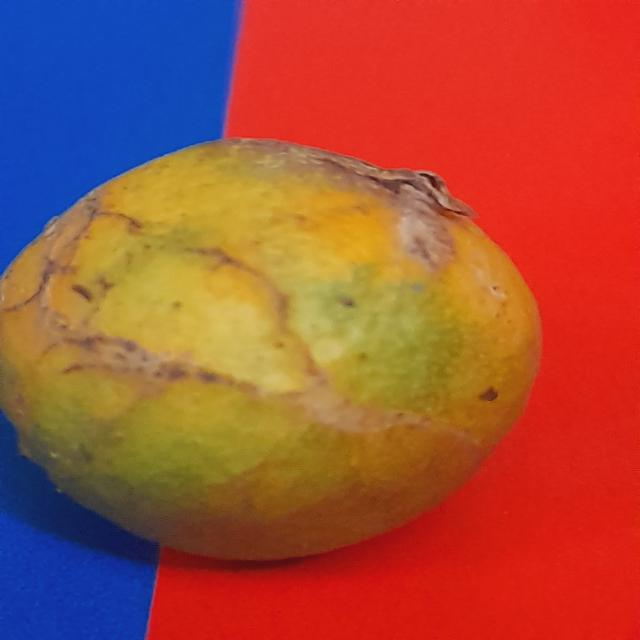thrips: (2, 138, 546, 542)
